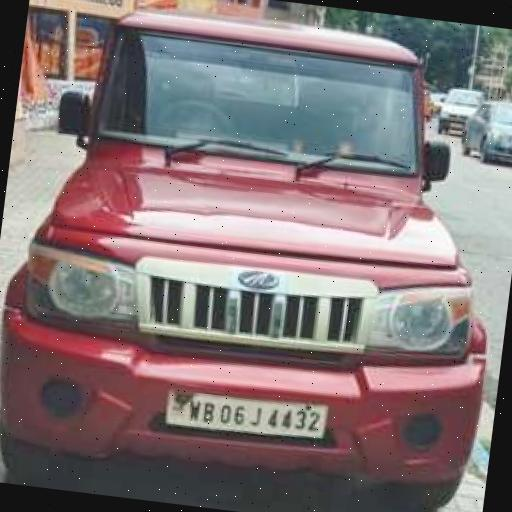license_plate`: (162, 384, 327, 439)
